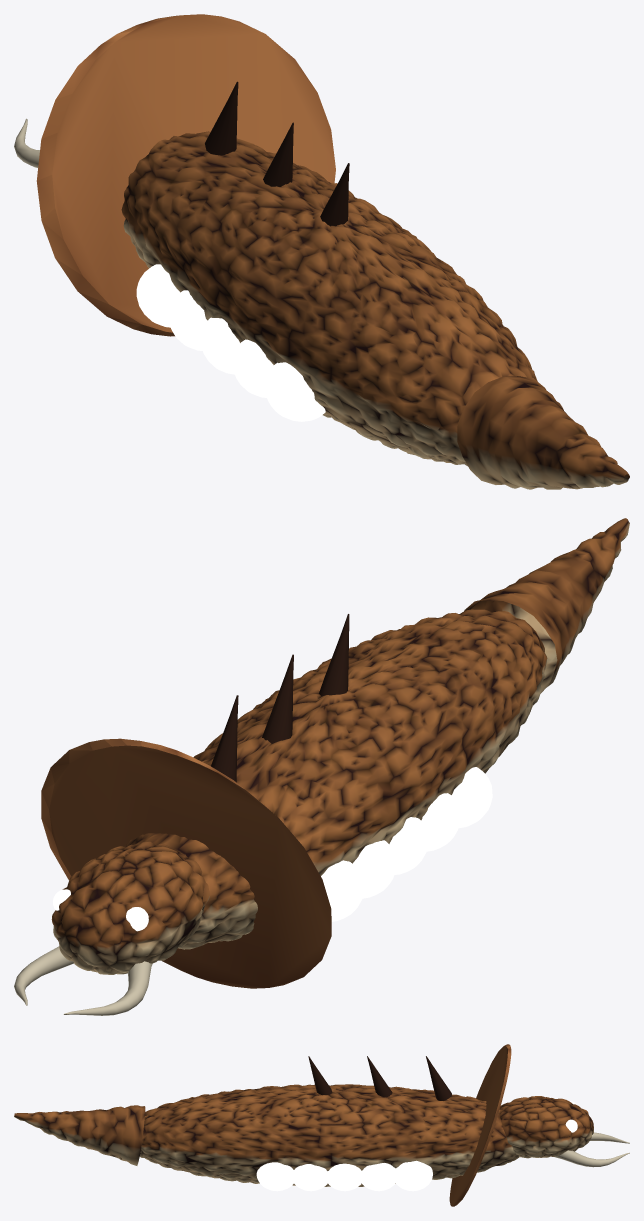
Rendered from ruuvak_large.glb.
3 views of the same model, one above another, from view 1: azimuth 30°, elevation 25°; view 2: azimuth 150°, elevation 25°; view 3: azimuth 270°, elevation 25° (orthographic). The views are drawn at different scales.
Parts seen in each view (by area): view 1: ruuvak_large.001; view 2: ruuvak_large.001; view 3: ruuvak_large.001.
Boxes of the visible parts, x1,y1,x2,y2 form: ruuvak_large.001: (14,14,629,489); ruuvak_large.001: (14,518,629,1015); ruuvak_large.001: (14,1044,629,1206).
Size of the model in its own units: 2.87 by 2.61 by 10.
